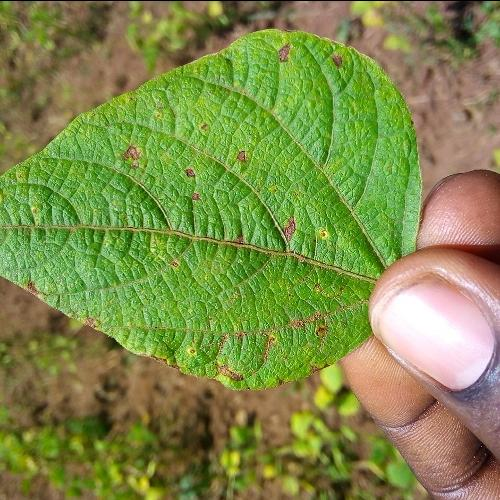hawar: (197, 282, 353, 390), (104, 119, 270, 215), (255, 24, 366, 94), (272, 199, 344, 261)
